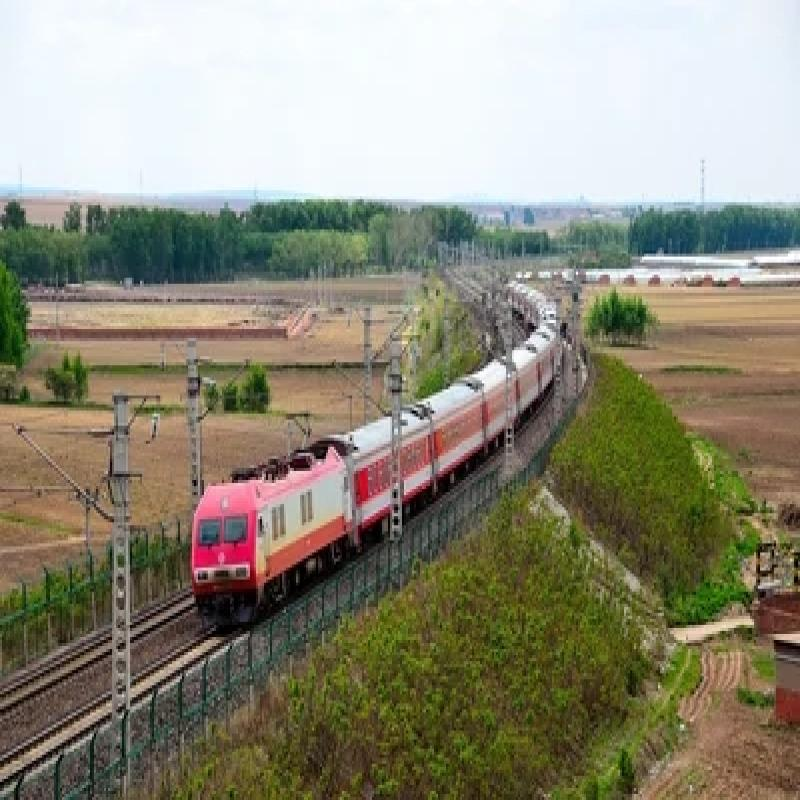train: (179, 427, 363, 632)
